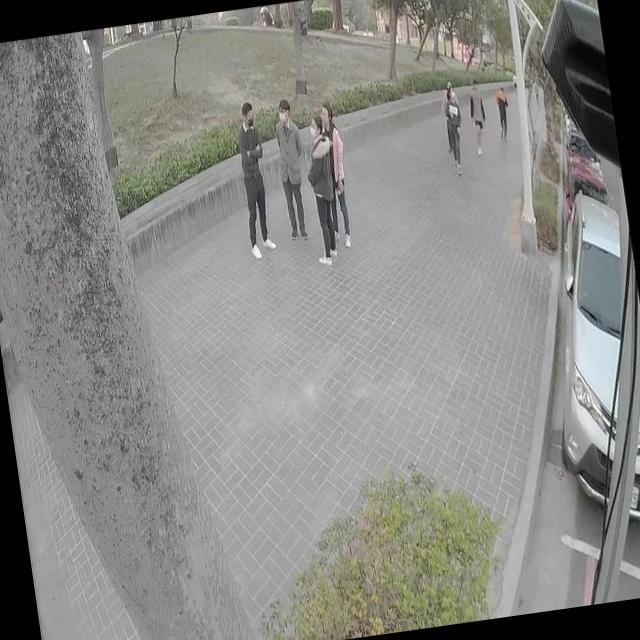person: (296, 106, 351, 270), (312, 97, 359, 250), (232, 96, 276, 258), (271, 98, 312, 242), (438, 80, 469, 176), (462, 74, 490, 158), (491, 82, 515, 144)
